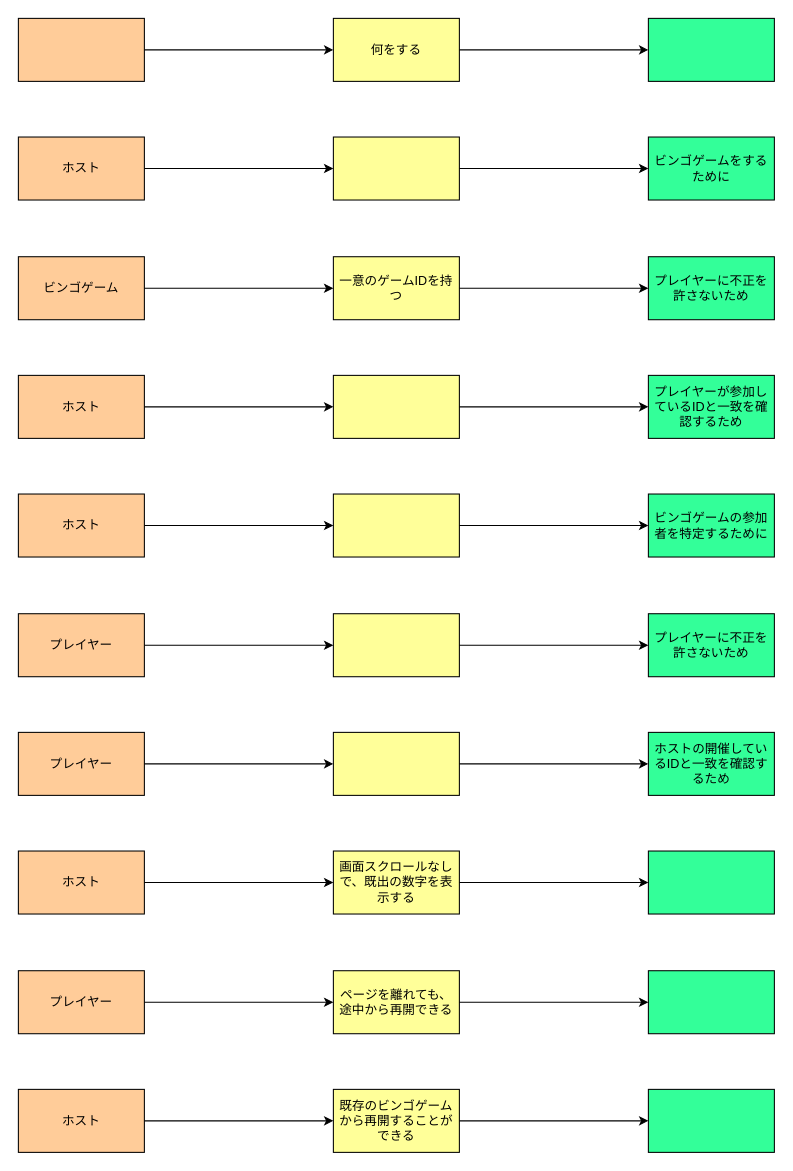
Image size: 793x1171. Some labels were removed from this diagram. Here are the shapes that lost their labels. From the top down, the centre of each, then its label:
[80,49]: 誰が
[710,49]: 何のために
[395,168]: ビンゴゲームを開催する
[395,406]: 開催しているビンゴゲームのIDがわかる
[395,525]: ビンゴゲームの参加者をURLやQRコードで募集できる
[395,645]: URLからビンゴゲームに参加する
[395,763]: 参加しているビンゴゲームのIDがわかる
[710,882]: プレイヤーが既出の数字を確認するため
[710,1002]: ゲームからの離脱を防ぐため
[710,1120]: ビンゴゲーム自体のやり直しを防ぐため
